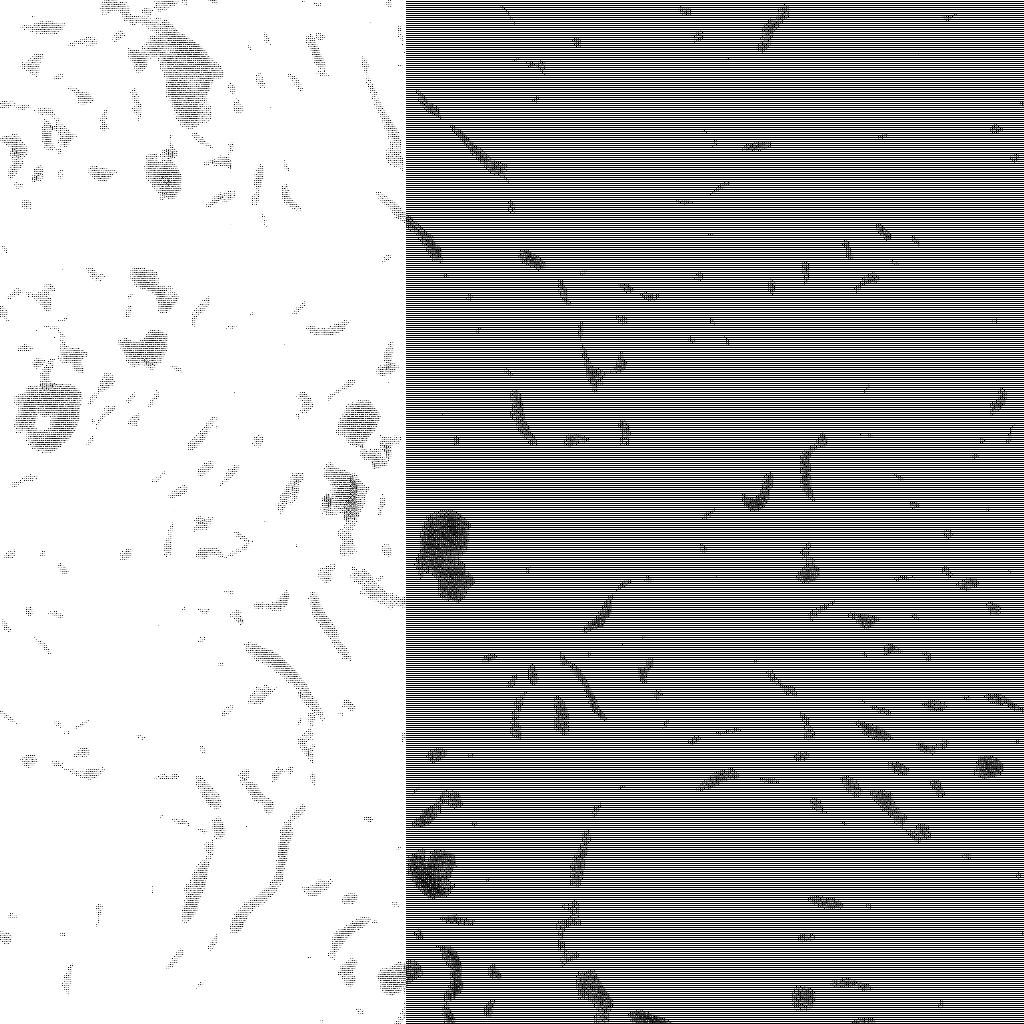axone: (126, 2, 226, 131), (413, 497, 483, 610), (11, 379, 88, 460), (398, 843, 471, 909), (327, 390, 388, 451), (143, 142, 185, 203)
